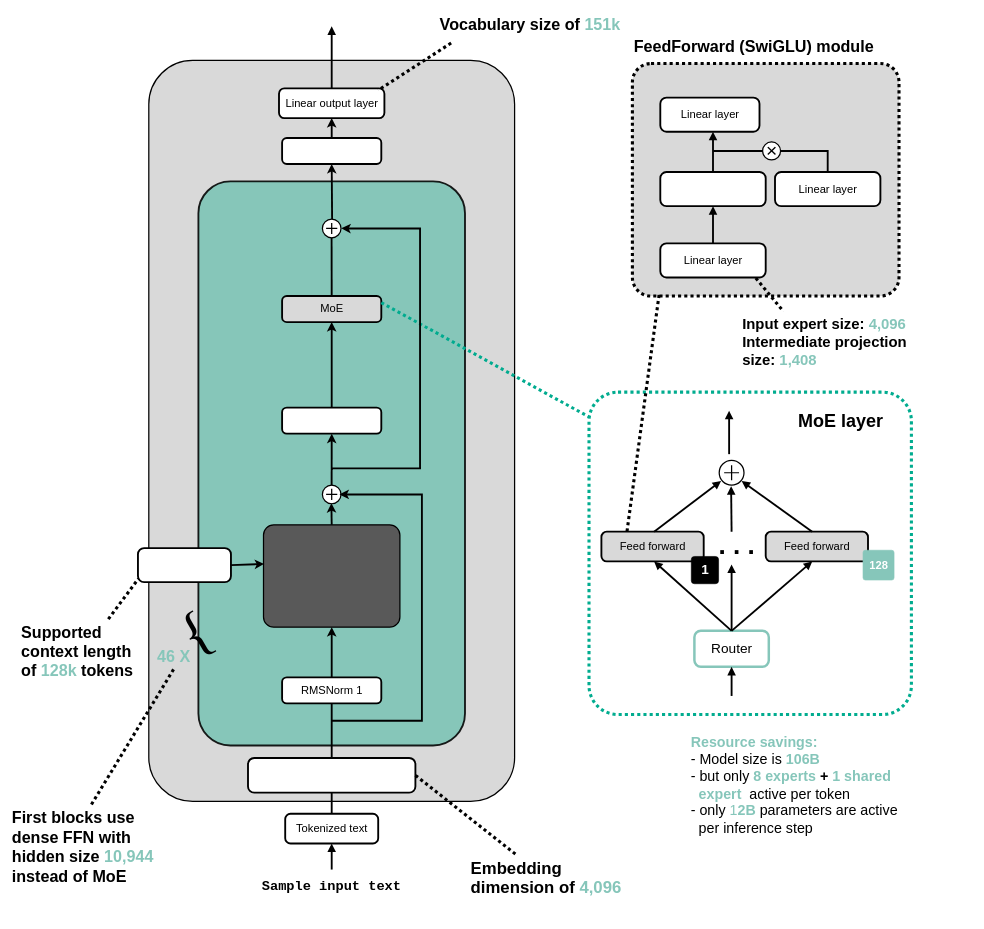
This 984x929 diagram has some shape labels left out. Here are the shapes that lost their labels. From the top down, the centre of each, then its label:
At (x=331, y=151): "Final RMSNorm".
At (x=712, y=189): "SiLU activation".
At (x=331, y=420): "RMSNorm 2".
At (x=184, y=565): "RoPE".
At (x=331, y=575): "Groped-query Attention".
At (x=331, y=775): "Token embedding layer".
